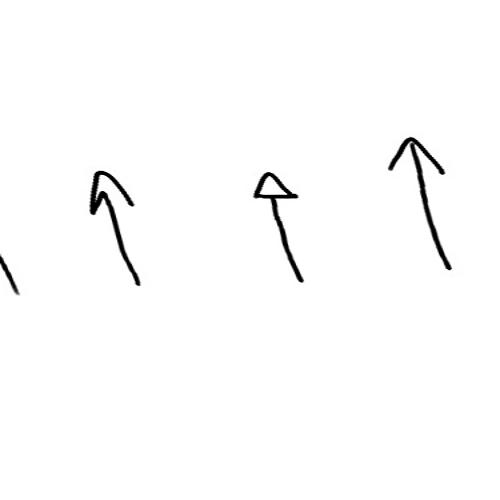arrow: (388, 131, 447, 271), (83, 170, 141, 285), (255, 171, 299, 286)
arrownohead: (1, 257, 21, 296)
